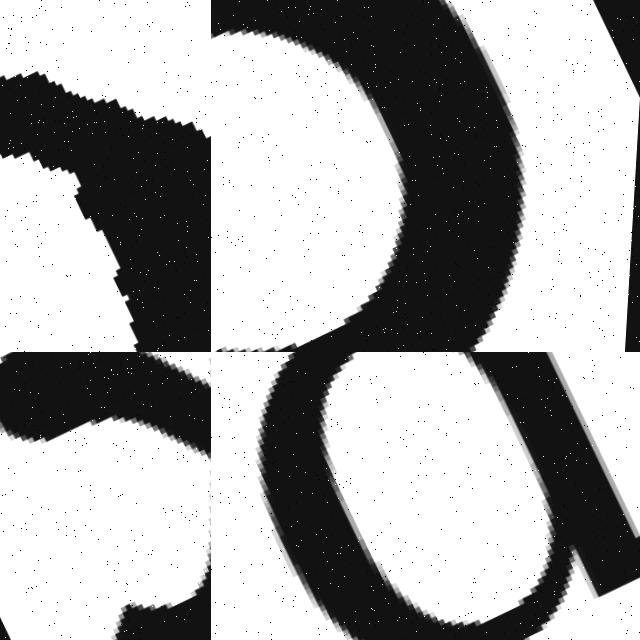B: (262, 352, 640, 640)
C: (211, 0, 531, 352)
O: (0, 67, 211, 352)
X: (0, 352, 211, 640)
